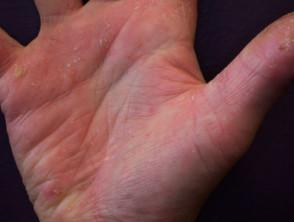Eczema: (10, 57, 42, 87), (48, 181, 70, 209), (273, 33, 294, 61), (65, 43, 90, 64), (98, 28, 117, 48)
